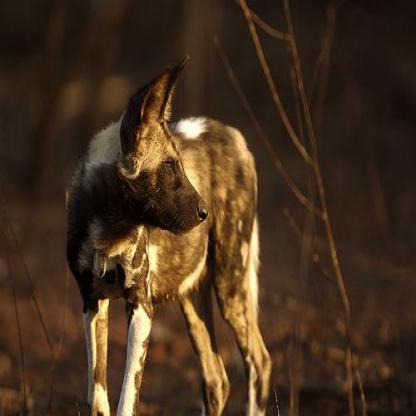African_hunting_dog: (60, 48, 273, 413)
